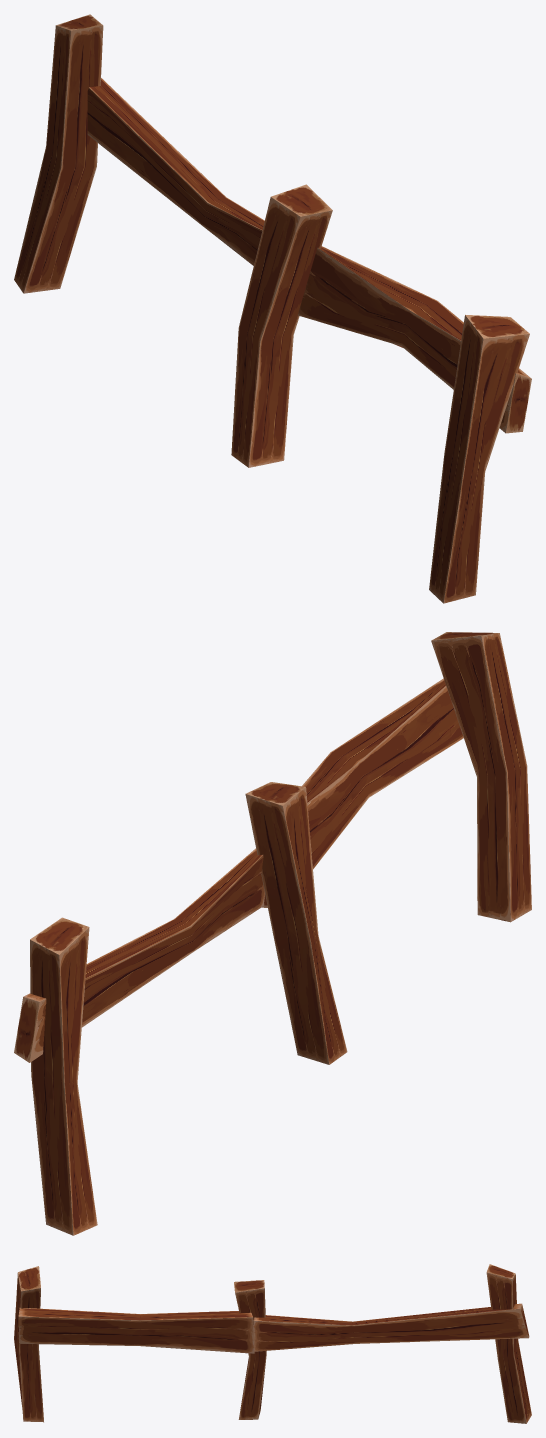
File: SM_PROP_railing_v01_01.fbx
3 views of the same model, one above another, from view 1: azimuth 30°, elevation 25°; view 2: azimuth 150°, elevation 25°; view 3: azimuth 270°, elevation 25° (orthographic). The views are drawn at different scales.
Parts seen in each view (by area): view 1: SM_PROP_railing_v01_01; view 2: SM_PROP_railing_v01_01; view 3: SM_PROP_railing_v01_01.
Part boxes in pixels (x1,y1,x2,y2): SM_PROP_railing_v01_01: [14, 14, 531, 603]; SM_PROP_railing_v01_01: [14, 632, 531, 1235]; SM_PROP_railing_v01_01: [14, 1264, 531, 1423].
Size of the model in its own units: 41.15 by 103 by 310.
